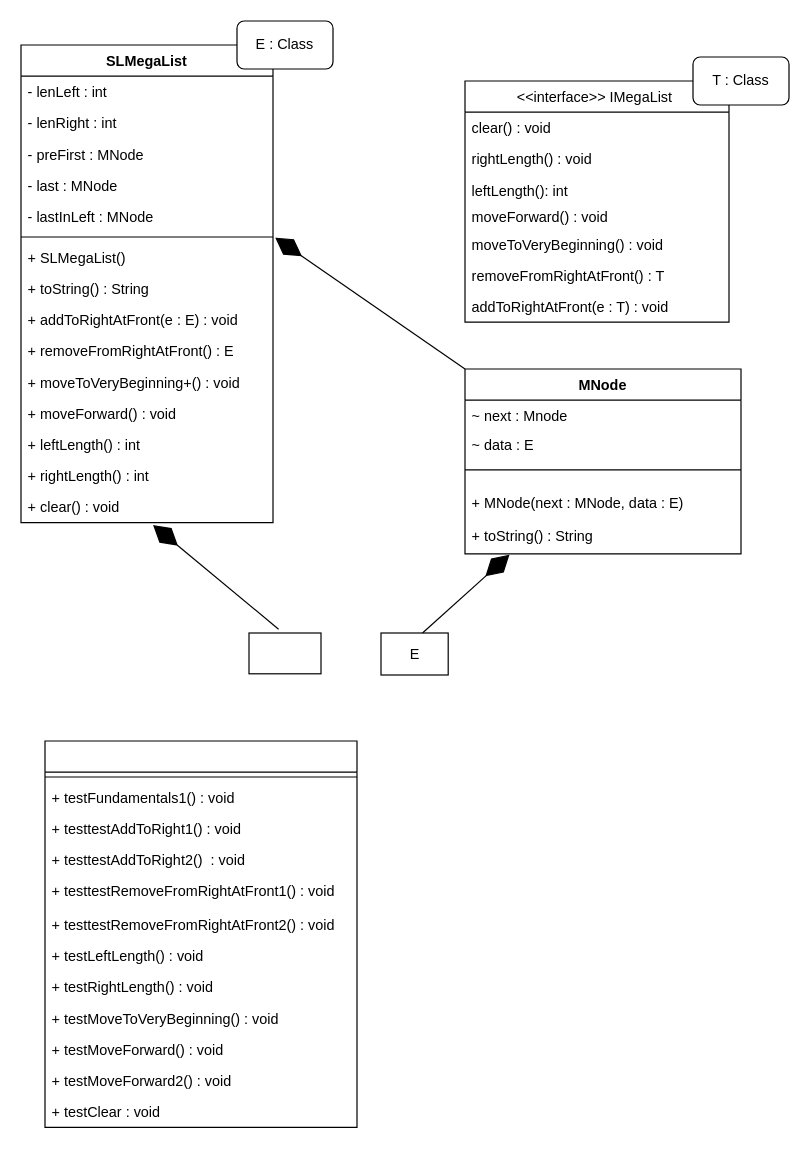
Some shapes in this 810 by 1152 pixel diagram are drawn without their labels. Here are the shapes that lost their labels. From the top down, the box of each, then its label:
(248, 632, 321, 674): int
(44, 740, 357, 1127): SLMegaTests
